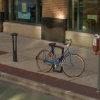Bicycle: (35, 38, 86, 78)
